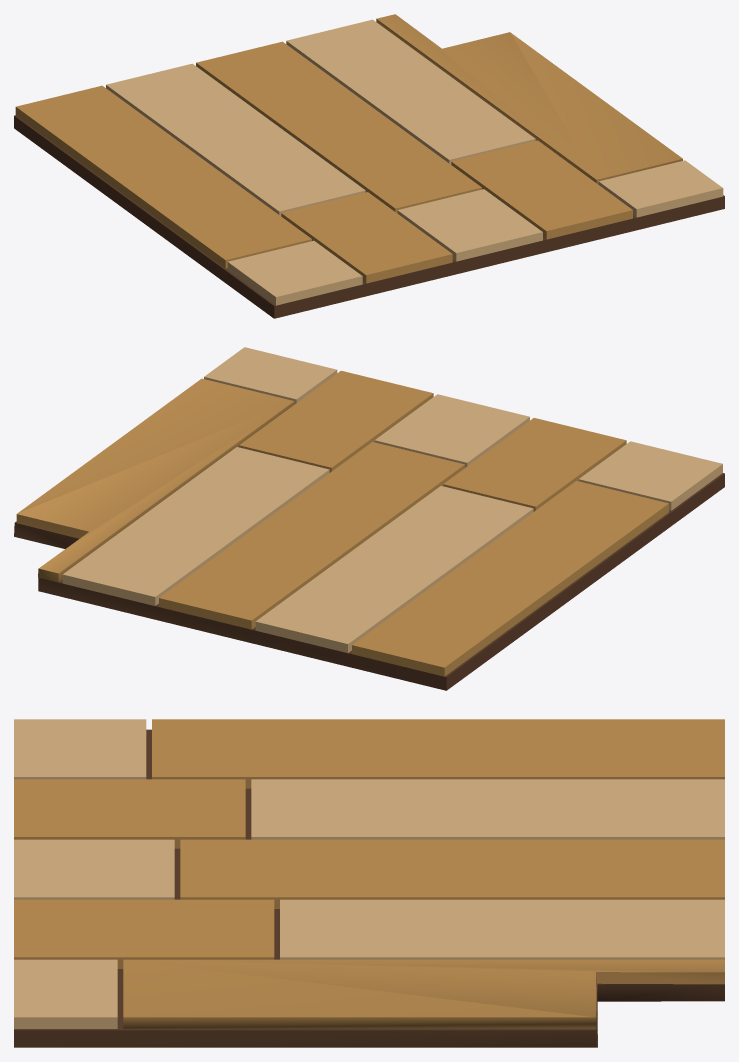
The model's file is Floor with hole in corner.fbx.
The picture shows the model from 3 angles, top to bottom: view 1: azimuth 30°, elevation 25°; view 2: azimuth 150°, elevation 25°; view 3: azimuth 270°, elevation 25°; orthographic projection. The views are drawn at different scales.
Parts seen in each view (by area): view 1: SM_LPI_Struct_Floor_01; view 2: SM_LPI_Struct_Floor_01; view 3: SM_LPI_Struct_Floor_01.
Boxes of the visible parts, bbox=[...] form: SM_LPI_Struct_Floor_01: bbox=[14, 14, 724, 318]; SM_LPI_Struct_Floor_01: bbox=[14, 347, 724, 690]; SM_LPI_Struct_Floor_01: bbox=[14, 719, 724, 1047].
Size of the model in its own units: 100 by 4.5 by 100.
Materials: 1 (1 with a texture image).
